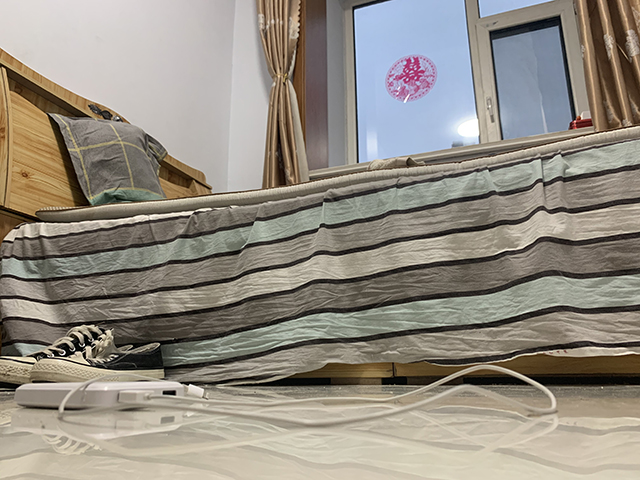bed: (1, 47, 640, 385)
wire: (11, 363, 559, 429)
